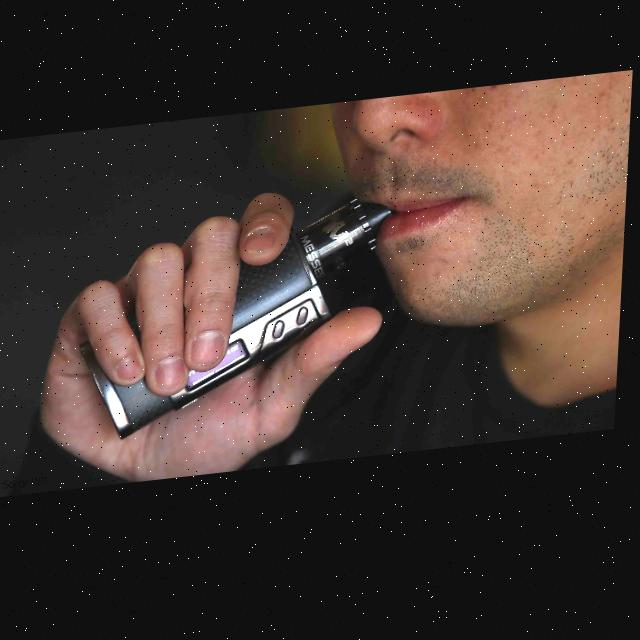vape: (78, 200, 403, 449)
